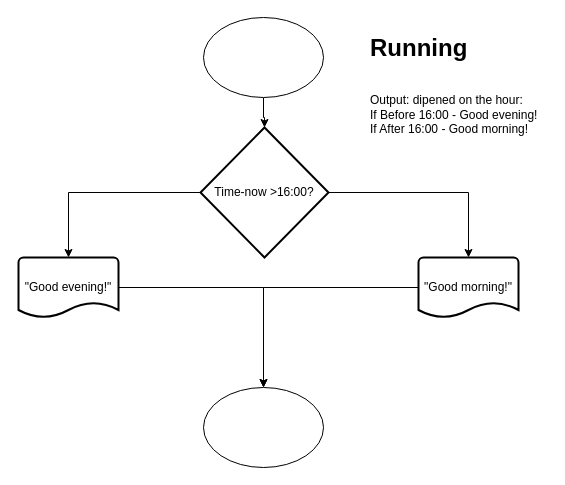
Some shapes in this 565 by 485 pixel diagram are drawn without their labels. The centre of each missing label's shape, as x and y in pixels:
Start: the point at 263,57
Stop: the point at 263,427
